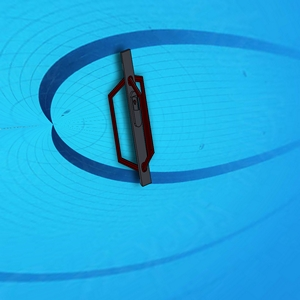submarine: (106, 53, 156, 187)
